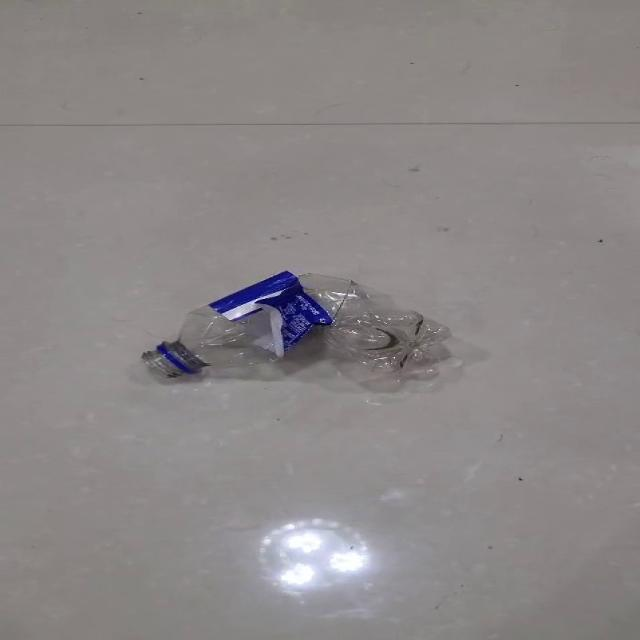plastic: (141, 269, 451, 389)
